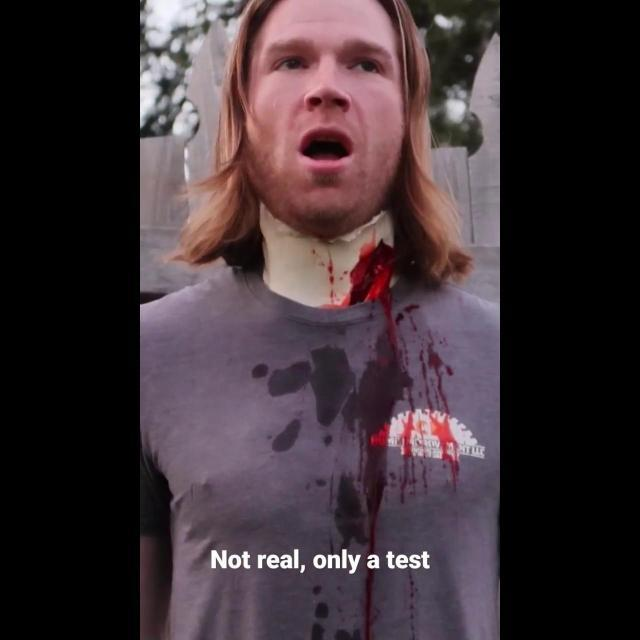blood: (308, 220, 480, 640)
